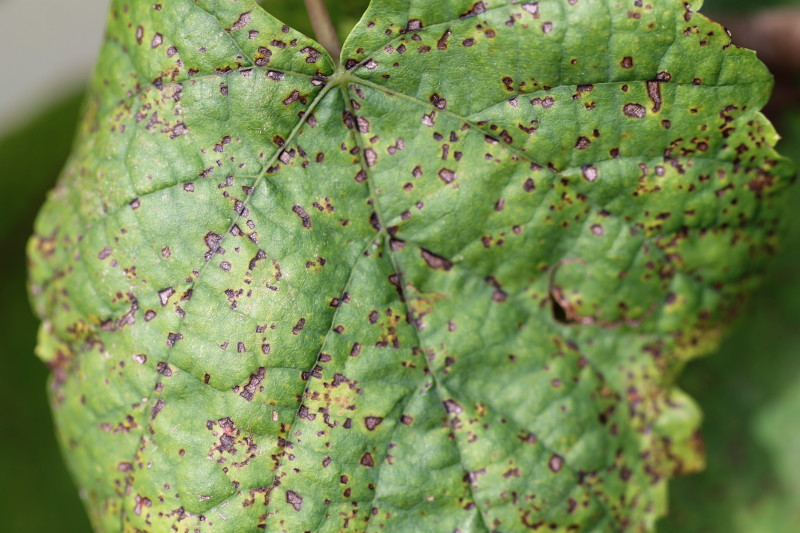downy: (105, 1, 390, 286), (402, 2, 682, 282), (312, 296, 549, 533), (51, 318, 266, 533), (563, 304, 693, 433), (695, 113, 788, 206), (556, 442, 645, 531), (691, 223, 764, 296), (683, 33, 748, 98)
